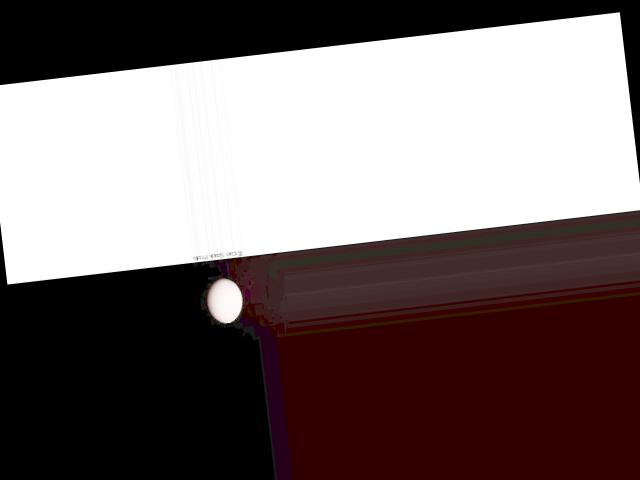egg: (204, 275, 244, 325)
